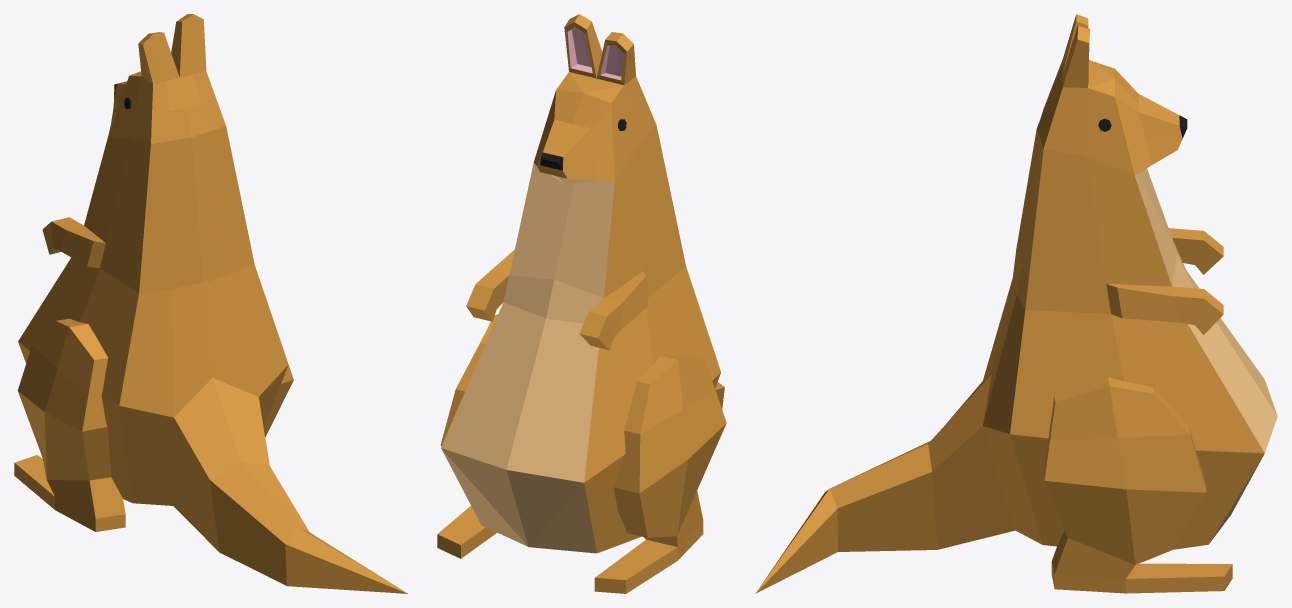
Rendered from animals-kangaroo-133.glb.
The picture shows the model from 3 angles, left to right: view 1: azimuth 30°, elevation 25°; view 2: azimuth 150°, elevation 25°; view 3: azimuth 270°, elevation 25°; orthographic projection. The views are drawn at different scales.
Visible parts, largest first — view 1: Cube.027_Cube.025, Kangaroo_Cube.000; view 2: Cube.027_Cube.025, Kangaroo_Cube.000; view 3: Cube.027_Cube.025, Kangaroo_Cube.000.
Part boxes in pixels (x1,y1,x2,y2): Cube.027_Cube.025: [18, 14, 407, 593]; Kangaroo_Cube.000: [14, 97, 293, 531]; Cube.027_Cube.025: [441, 14, 724, 553]; Kangaroo_Cube.000: [437, 119, 726, 593]; Cube.027_Cube.025: [755, 14, 1277, 593]; Kangaroo_Cube.000: [1043, 118, 1232, 593].
Bounding box in the file's own units: 4.58 × 10.08 × 8.96.
